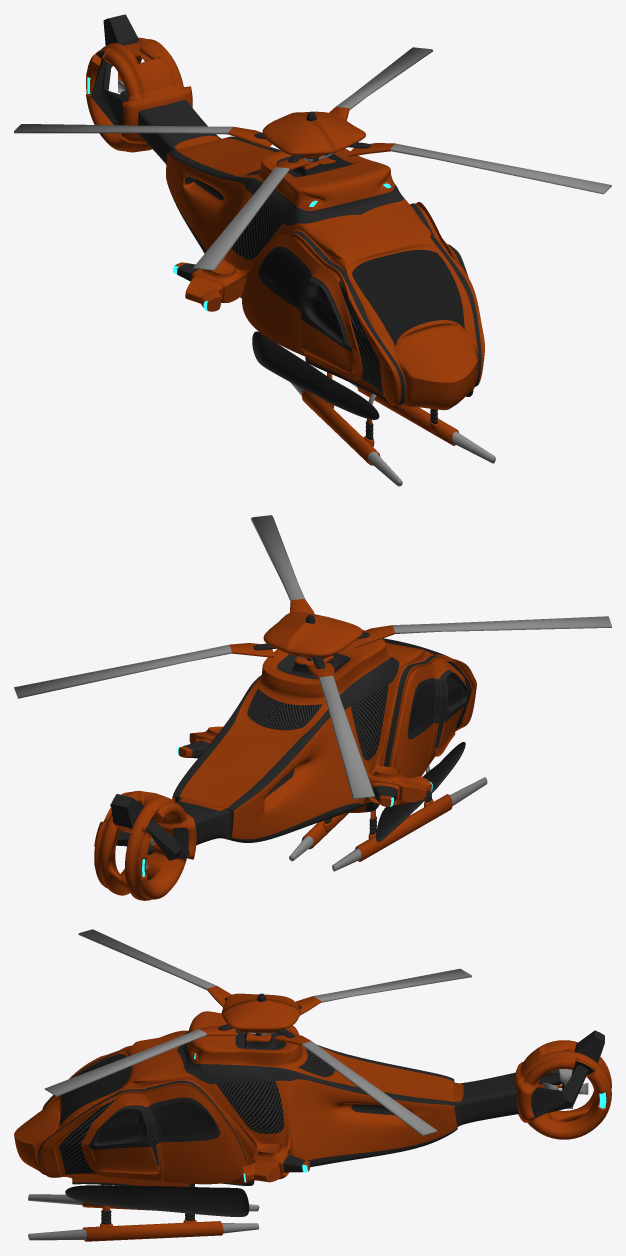
Rendered from animated_helicopter.glb.
3 views of the same model, one above another, from view 1: azimuth 30°, elevation 25°; view 2: azimuth 150°, elevation 25°; view 3: azimuth 270°, elevation 25° (orthographic). The views are drawn at different scales.
Visible parts, largest first — view 1: chasis_6, main_rotor__0, rear stabolizer_2, doors.001_11, doors.003_13, landing_gear_5, fin_10; view 2: chasis_6, main_rotor__0, rear stabolizer_2, landing_gear_5, doors.001_11, doors.003_13, fin_10; view 3: chasis_6, main_rotor__0, doors.005_15, rear stabolizer_2, doors.004_14, landing_gear_5, fin_10.
Boxes of the visible parts, box(x1,y1,x2,y2) form: chasis_6: box(138, 99, 484, 419); main_rotor__0: box(14, 47, 611, 270); rear stabolizer_2: box(86, 37, 192, 152); doors.001_11: box(242, 234, 320, 356); doors.003_13: box(299, 265, 362, 380); landing_gear_5: box(290, 372, 495, 486); fin_10: box(90, 14, 145, 125); chasis_6: box(172, 612, 476, 845); main_rotor__0: box(14, 515, 611, 799); rear stabolizer_2: box(94, 790, 196, 900); landing_gear_5: box(289, 765, 487, 871); doors.001_11: box(396, 664, 438, 777); doors.003_13: box(428, 658, 467, 765); fin_10: box(111, 794, 189, 860); chasis_6: box(14, 993, 518, 1216); main_rotor__0: box(44, 929, 471, 1135); doors.005_15: box(143, 1085, 245, 1184); rear stabolizer_2: box(514, 1040, 611, 1139); doors.004_14: box(81, 1093, 159, 1180); landing_gear_5: box(28, 1184, 259, 1241); fin_10: box(531, 1030, 604, 1118).
Bounding box in the file's own units: 6.24 × 3.69 × 8.7.
8 materials, 1 textured.
